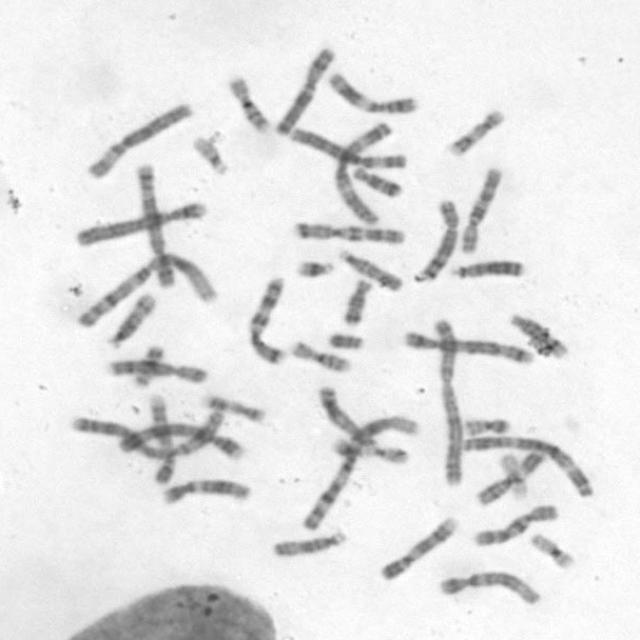A1: (299, 414, 422, 534), (75, 248, 221, 330)
A2: (70, 407, 228, 460), (430, 316, 466, 488)
A3: (456, 435, 594, 500), (332, 119, 397, 226)
B4: (72, 200, 206, 249), (116, 422, 245, 462)
B5: (130, 161, 177, 290), (400, 330, 534, 368)
C10: (460, 166, 503, 256), (471, 504, 561, 546)
C11: (326, 70, 420, 117), (477, 446, 548, 504)
C12: (436, 572, 545, 610), (155, 478, 254, 507)
C6: (85, 100, 194, 182), (288, 125, 408, 171)
C7: (246, 276, 286, 365), (290, 219, 408, 246)
C8: (420, 197, 464, 282), (104, 356, 211, 387)
C9: (376, 513, 461, 584), (144, 391, 180, 484)
D13: (316, 384, 380, 446), (451, 259, 527, 283)
D14: (106, 288, 160, 348), (510, 311, 570, 362)
D15: (337, 247, 405, 295), (270, 529, 351, 560)
E16: (225, 73, 271, 134), (289, 338, 352, 374)
E17: (448, 107, 508, 157), (203, 390, 269, 426)
E18: (352, 164, 404, 200), (341, 278, 373, 327)
F19: (529, 532, 579, 572), (492, 450, 530, 502)
F20: (130, 344, 166, 389), (463, 415, 511, 437)
G21: (293, 259, 335, 281), (329, 437, 370, 458)
G22: (191, 134, 230, 177), (372, 444, 410, 465)
X: (273, 47, 334, 138)
Y: (328, 330, 366, 352)
